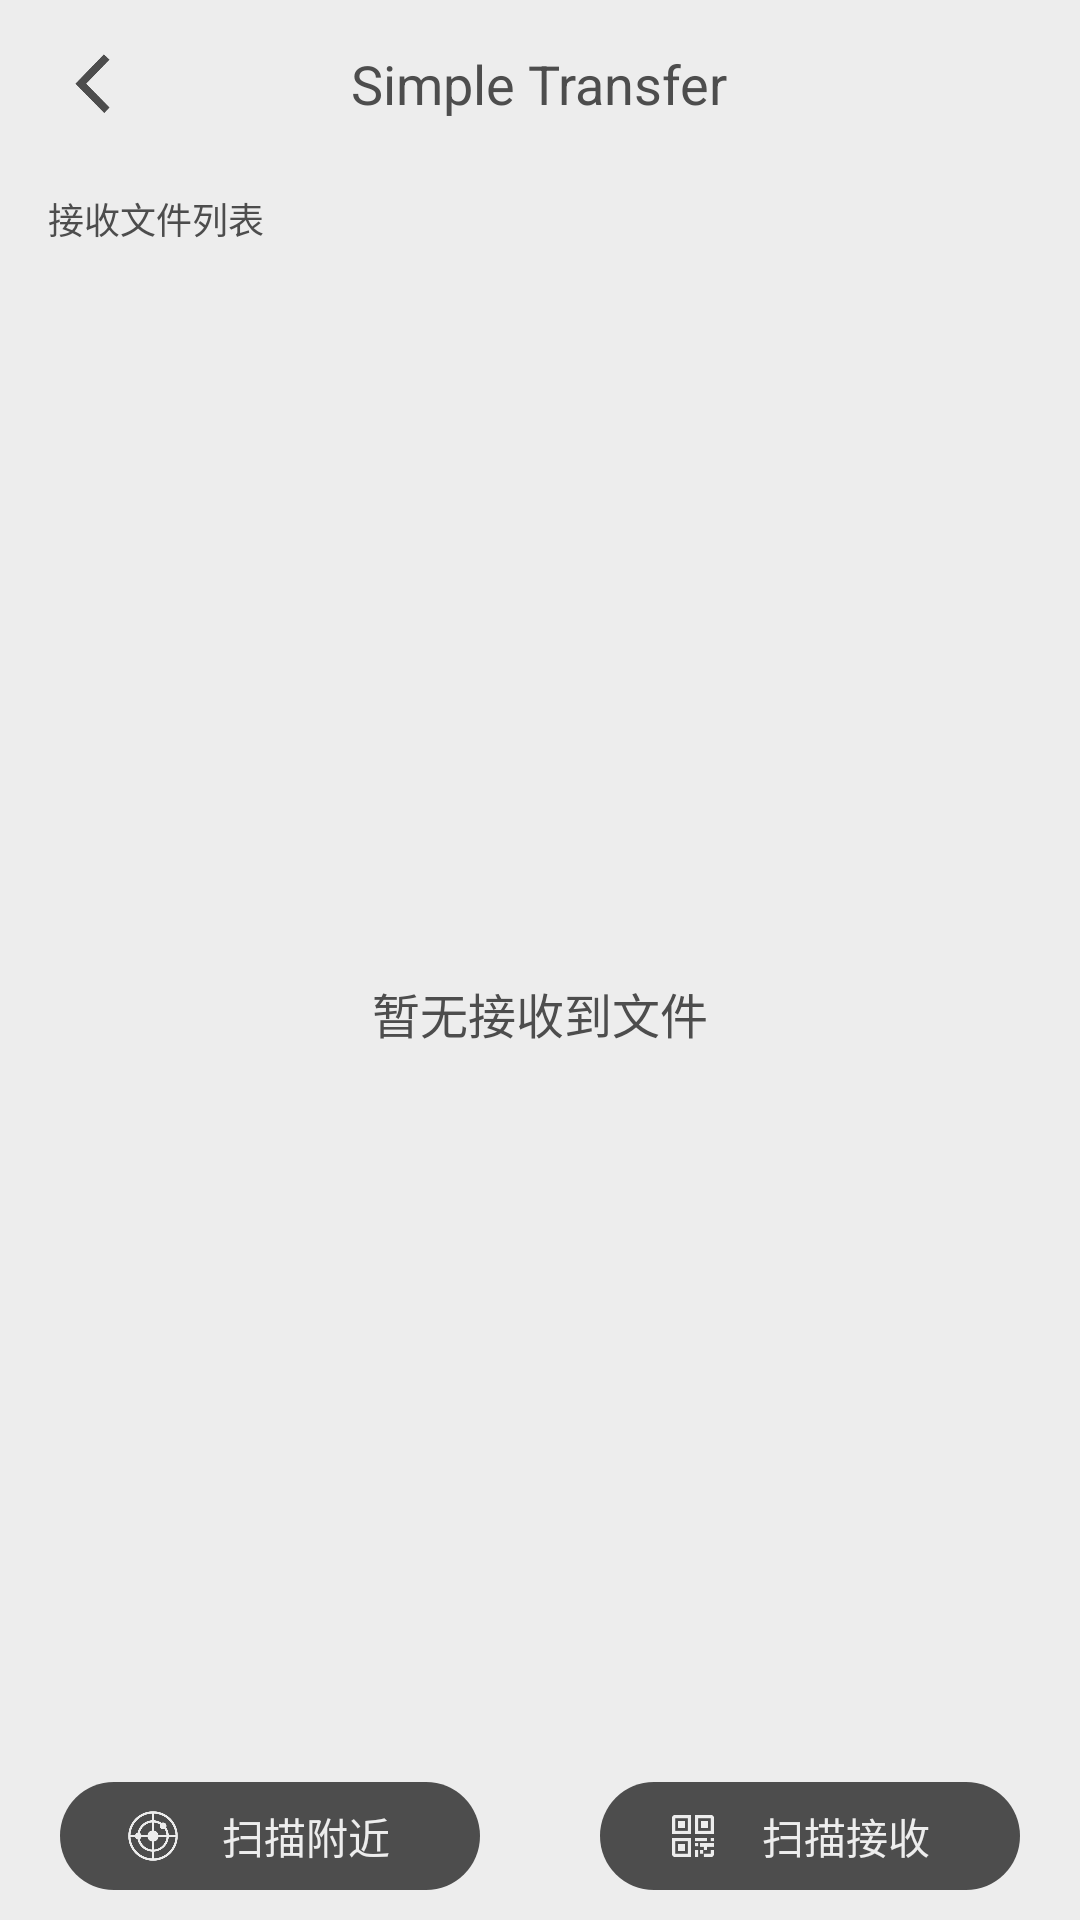

Named icons in this screenshot (1080 x 1920) and their bounding boxes, {"x1": x1, "y1": y1, "x2": x2, "y2": y2}:
back: {"x1": 75, "y1": 54, "x2": 110, "y2": 113}
code: {"x1": 672, "y1": 1815, "x2": 714, "y2": 1857}
radar: {"x1": 128, "y1": 1811, "x2": 178, "y2": 1861}
